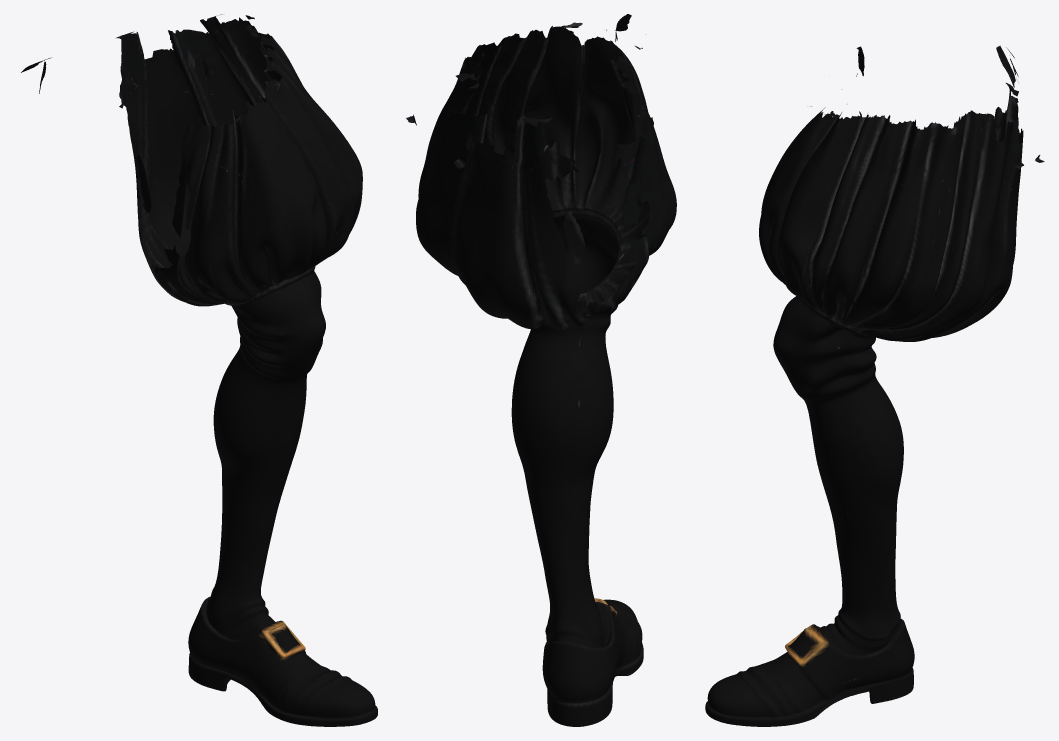
The model's file is piernaIzq.obj.
The picture shows the model from 3 angles, left to right: view 1: azimuth 30°, elevation 25°; view 2: azimuth 150°, elevation 25°; view 3: azimuth 270°, elevation 25°; orthographic projection. The views are drawn at different scales.
Visible parts, largest first — view 1: piernaIzq; view 2: piernaIzq; view 3: piernaIzq.
Part boxes in pixels (<box>): piernaIzq: <box>21,14,377,726</box>; piernaIzq: <box>406,14,676,726</box>; piernaIzq: <box>705,45,1044,726</box>.
Bounding box in the file's own units: 0.4542 × 1.04 × 0.5073.
1 material, 1 textured.
